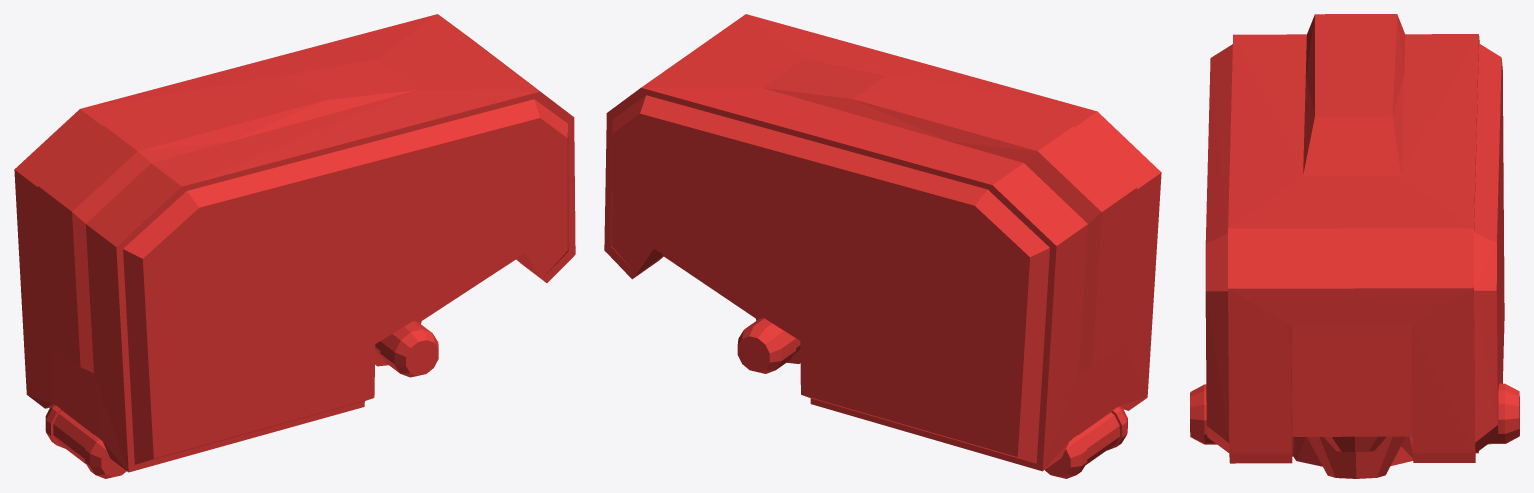
Rendered from head.dae.
3 views of the same model, side by side, from view 1: azimuth 30°, elevation 25°; view 2: azimuth 150°, elevation 25°; view 3: azimuth 270°, elevation 25° (orthographic). The views are drawn at different scales.
Visible parts, largest first — view 1: tmp_export_head; view 2: tmp_export_head; view 3: tmp_export_head.
Part boxes in pixels (x1,y1,x2,y2): tmp_export_head: (14,14,575,478); tmp_export_head: (604,14,1161,478); tmp_export_head: (1190,14,1519,478).
Bounding box in the file's own units: 0.0764 × 0.0394 × 0.0502.
